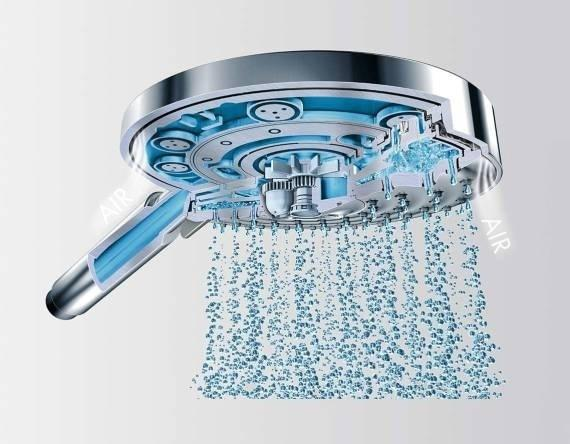Ducha: (28, 45, 509, 406)
